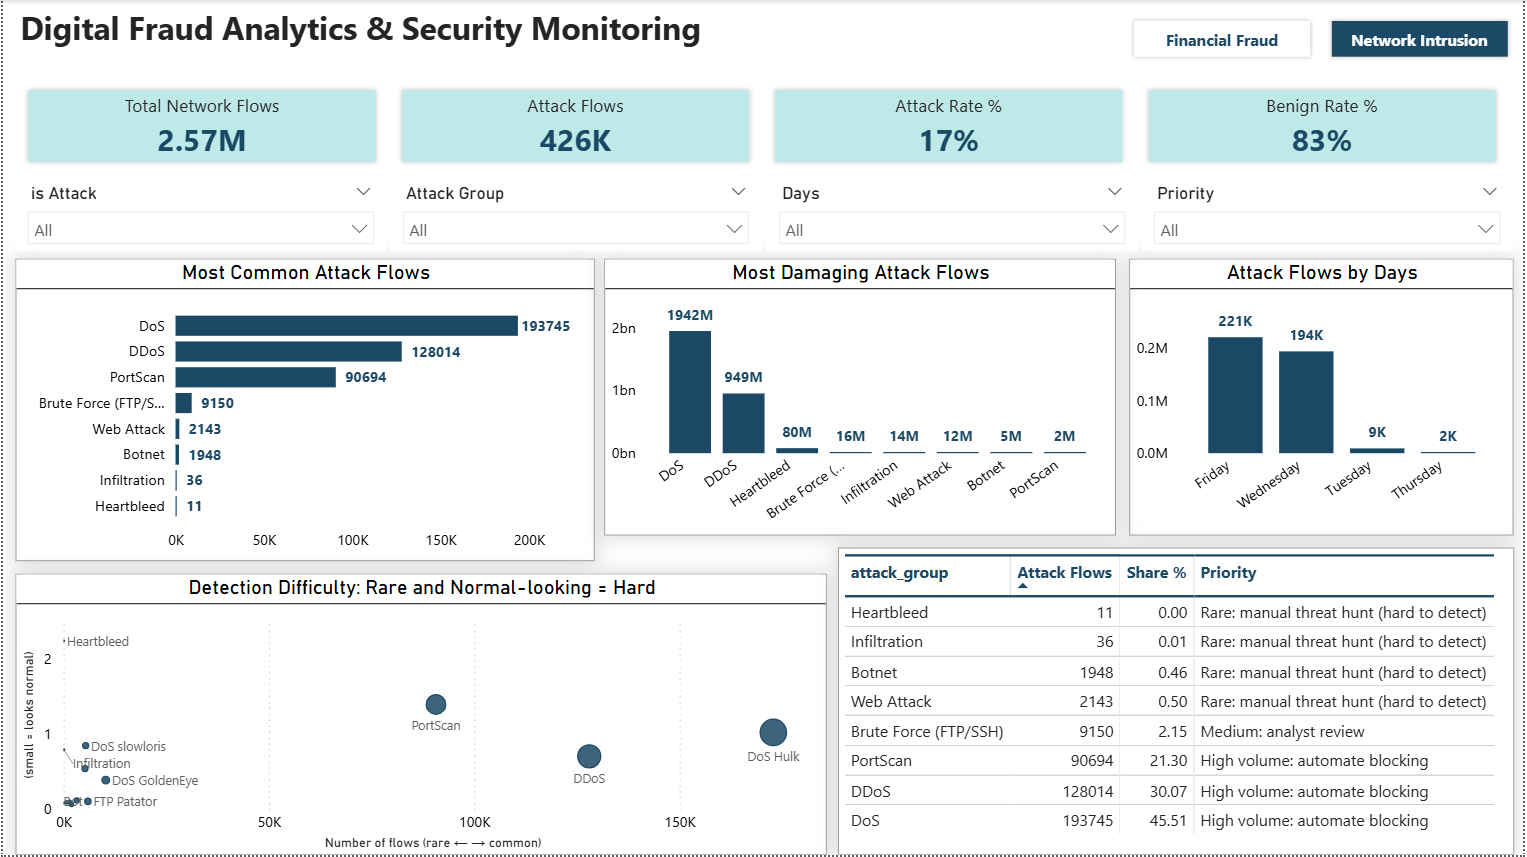

Layout of this report page (visuals, bound fields, positions):
{"tool":"powerbi","page":{"name":"Network Intrusion","canvas":[1280,720],"ordinal":1},"visuals":[{"type":"cardVisual","fields":{"Data":["cicids_clean.Total Transaction","cicids_clean.Attack Flows","cicids_clean.Attack Rate %","cicids_clean.Benign Rate %"]},"box":[9.3,64,1260.5,84.9],"z":0},{"type":"slicer","fields":{"Values":["cicids_clean.is_attack"]},"box":[10.5,148.8,311.8,61.6],"z":0,"group":"g1"},{"type":"slicer","fields":{"Values":["cicids_clean.attack_group"]},"box":[326.3,148.8,311.8,61.6],"z":1000,"group":"g1"},{"type":"clusteredBarChart","title":"Most Common Attack Flows","fields":{"Category":["cicids_clean.attack_group"],"Y":["cicids_clean.Total Network Flows"]},"box":[10.5,217.4,487.2,254.7],"z":1000},{"type":"slicer","fields":{"Values":["cicids_clean.days"]},"box":[642.2,148.8,311.8,61.6],"z":2000,"group":"g1"},{"type":"columnChart","title":"Attack Flows by Days","fields":{"Y":["cicids_clean.Attack Flows"],"Category":["cicids_clean.days"]},"box":[947.7,217.4,323.3,232.6],"z":2000},{"type":"slicer","fields":{"Values":["PriorityTable.priority"]},"box":[958,148.8,311.8,61.6],"z":3000,"group":"g1"},{"type":"clusteredColumnChart","title":"Most Damaging Attack Flows","fields":{"Category":["cicids_clean.attack_group"],"Y":["cicids_clean.Total Traffic Volume"]},"box":[505.8,217.4,430.2,232.6],"z":3000},{"type":"scatterChart","title":"Detection Difficulty: Rare and Normal-looking = Hard","fields":{"X":["cicids_clean.Attack Flows"],"Y":["cicids_clean.Distance from Benign"],"Size":["cicids_clean.shares %"],"Category":["cicids_clean.Label"]},"box":[10.5,482.6,682.6,237.2],"z":4000},{"type":"pivotTable","fields":{"Rows":["cicids_clean.attack_group"],"Values":["cicids_clean.Attack Flows","cicids_clean.Share %","cicids_clean.Priority"]},"box":[702.3,460.5,568.6,259.3],"z":5000},{"type":"textbox","box":[9.6,0,820.6,67.2],"z":6000},{"type":"pageNavigator","box":[947.5,13.8,323.8,38.8],"z":7000},{"type":"group","id":"g1","title":"Group 1","box":[10.5,148.8,1259.3,61.6],"z":8000}]}

Visuals, with their boxes in screenshot pixels (x1, y1, x2, y2), scaled from the page's 1280x720 canvas onto the 1527x857 screenshot:
cardVisual - cicids_clean.Total Transaction x cicids_clean.Attack Flows: <bbox>11, 76, 1515, 177</bbox>
slicer - cicids_clean.is_attack: <bbox>13, 177, 384, 250</bbox>
slicer - cicids_clean.attack_group: <bbox>389, 177, 761, 250</bbox>
"Most Common Attack Flows" clusteredBarChart: <bbox>13, 259, 594, 562</bbox>
slicer - cicids_clean.days: <bbox>766, 177, 1138, 250</bbox>
"Attack Flows by Days" columnChart: <bbox>1131, 259, 1516, 536</bbox>
slicer - PriorityTable.priority: <bbox>1143, 177, 1515, 250</bbox>
"Most Damaging Attack Flows" clusteredColumnChart: <bbox>603, 259, 1117, 536</bbox>
"Detection Difficulty: Rare and Normal-looking = Hard" scatterChart: <bbox>13, 574, 827, 856</bbox>
pivotTable - cicids_clean.attack_group x cicids_clean.Attack Flows: <bbox>838, 548, 1516, 856</bbox>
textbox: <bbox>11, 0, 990, 80</bbox>
pageNavigator: <bbox>1130, 16, 1517, 63</bbox>
"Group 1" group: <bbox>13, 177, 1515, 250</bbox>
